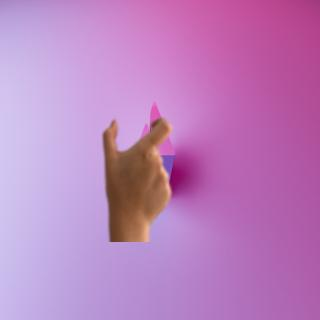Irritated: (100, 118, 178, 238)
